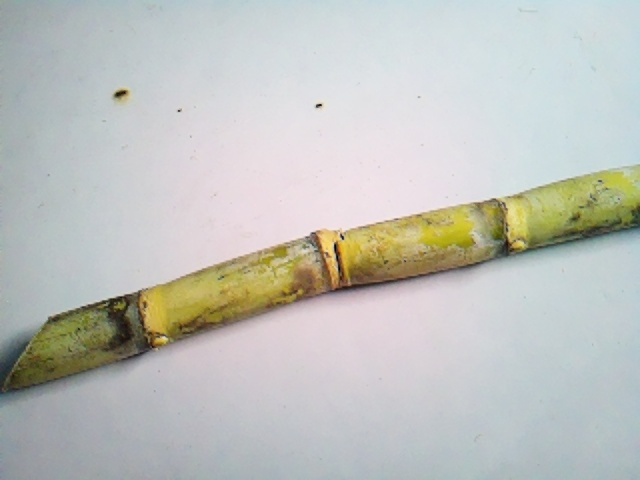Good Sugarcane: (0, 165, 640, 393)
Node: (294, 225, 358, 292), (475, 193, 531, 257), (118, 290, 173, 354)
